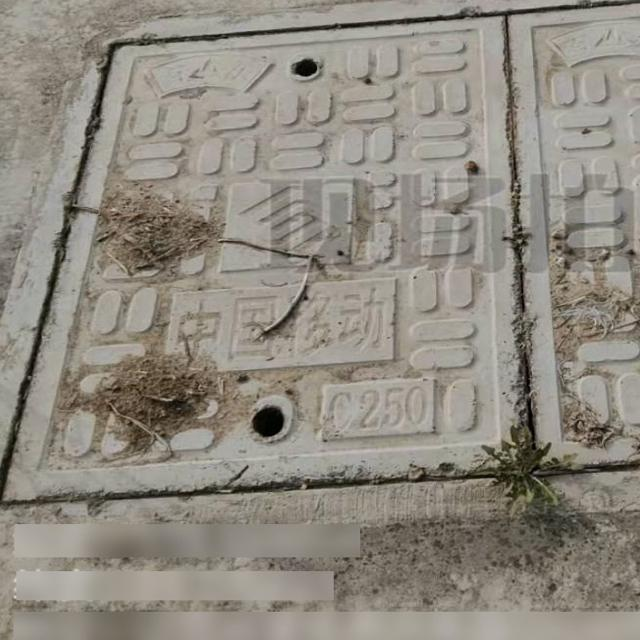good: (0, 0, 640, 532)
